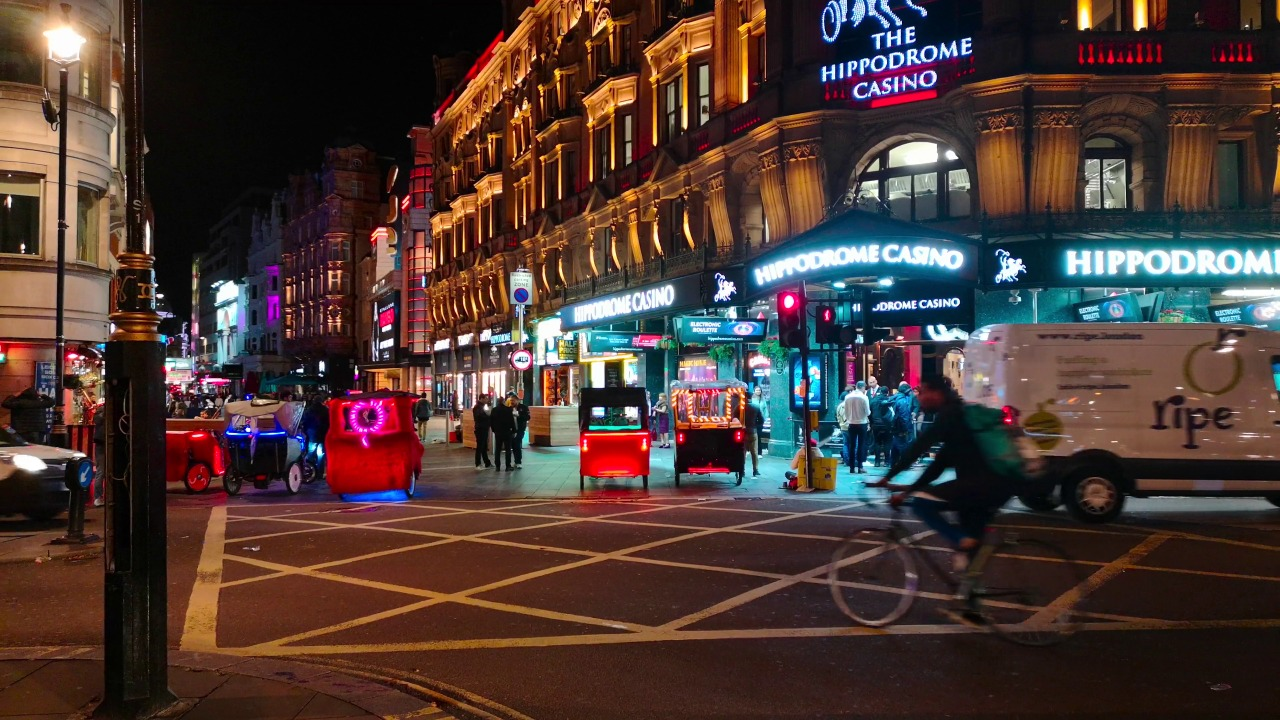car: (1, 432, 117, 535), (341, 397, 421, 505), (676, 389, 745, 494), (587, 390, 649, 492), (231, 397, 304, 483), (169, 416, 222, 499)
person: (915, 377, 1012, 560), (847, 384, 870, 467), (786, 438, 821, 489), (492, 406, 516, 477), (749, 395, 770, 474), (21, 387, 52, 432), (480, 385, 493, 469), (518, 403, 531, 472), (655, 395, 670, 452), (895, 371, 908, 435), (876, 386, 887, 458), (866, 375, 878, 384)
